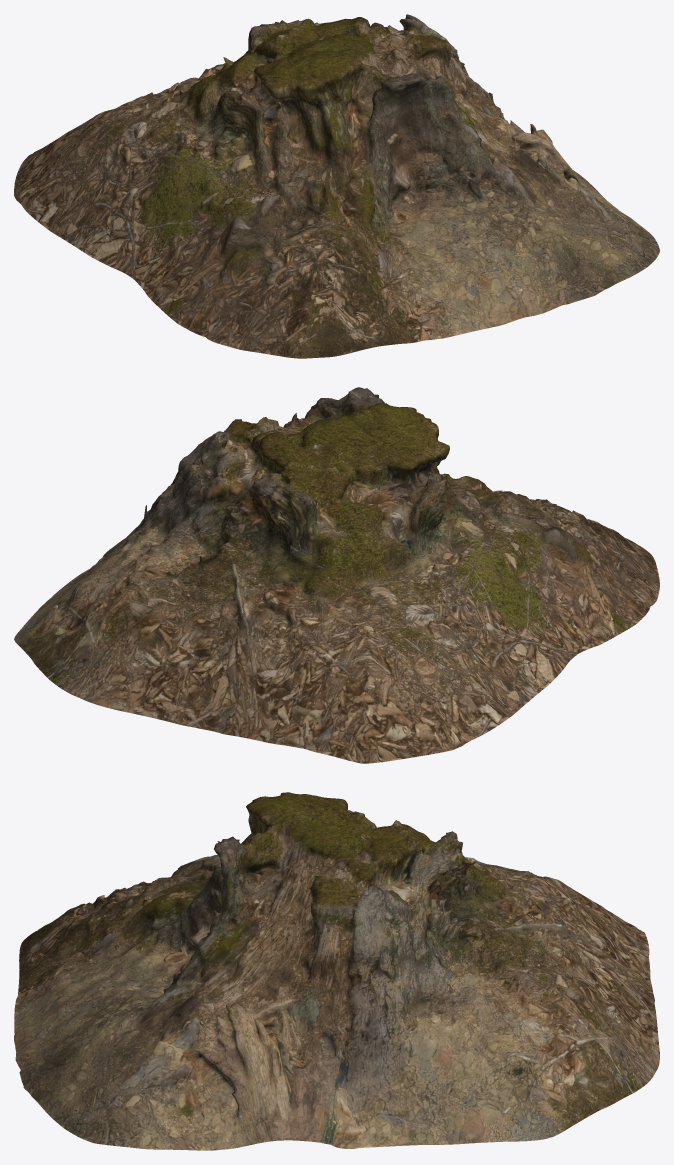
Rendered from tree_stump_01_4k.obj.
3 views of the same model, one above another, from view 1: azimuth 30°, elevation 25°; view 2: azimuth 150°, elevation 25°; view 3: azimuth 270°, elevation 25° (orthographic). The views are drawn at different scales.
Visible parts, largest first — view 1: tree_stump_01; view 2: tree_stump_01; view 3: tree_stump_01.
Boxes of the visible parts, <box> form: tree_stump_01: <box>14,14,659,358</box>; tree_stump_01: <box>14,387,659,763</box>; tree_stump_01: <box>14,792,659,1150</box>.
Bounding box in the file's own units: 1.43 × 0.5727 × 1.59.
